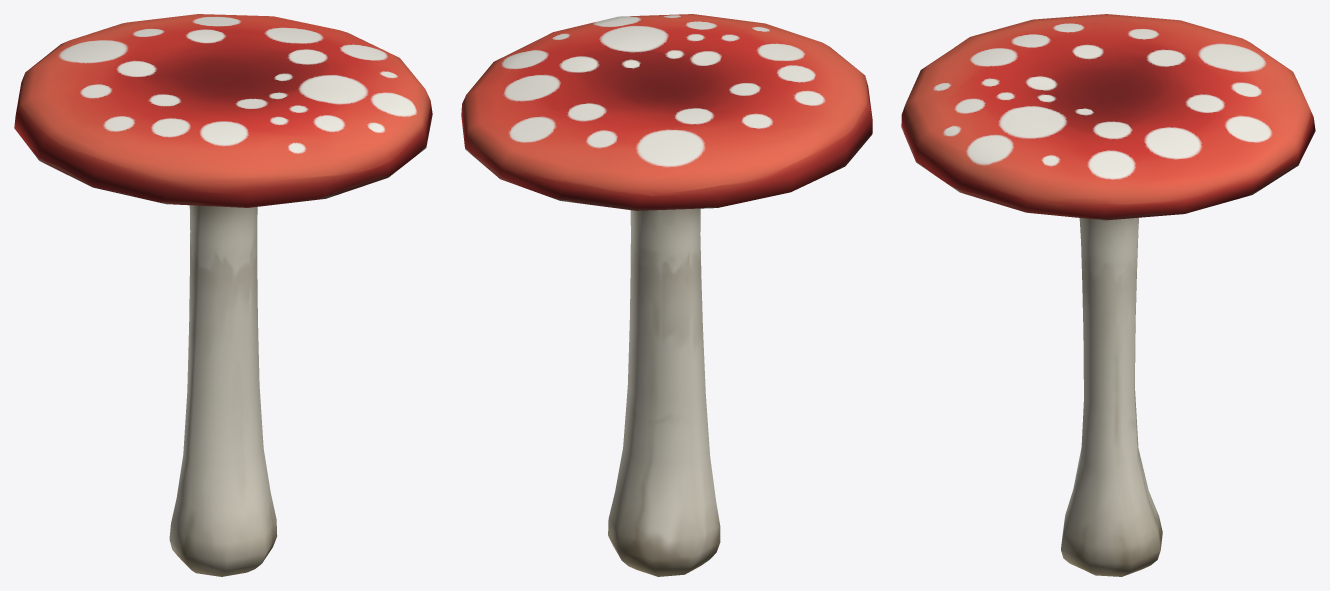
Rendered from FlyAgaric_006.fbx.
The picture shows the model from 3 angles, left to right: view 1: azimuth 30°, elevation 25°; view 2: azimuth 150°, elevation 25°; view 3: azimuth 270°, elevation 25°; orthographic projection.
Visible parts, largest first — view 1: FlyAgaric_06_LOD0; view 2: FlyAgaric_06_LOD0; view 3: FlyAgaric_06_LOD0.
Boxes of the visible parts, x1,y1,x2,y2 form: FlyAgaric_06_LOD0: [14, 14, 432, 576]; FlyAgaric_06_LOD0: [461, 14, 872, 576]; FlyAgaric_06_LOD0: [901, 14, 1315, 576].
Size of what is drawn, in the model's own units: 26.51 by 33.88 by 26.52.
1 material, 1 textured.
